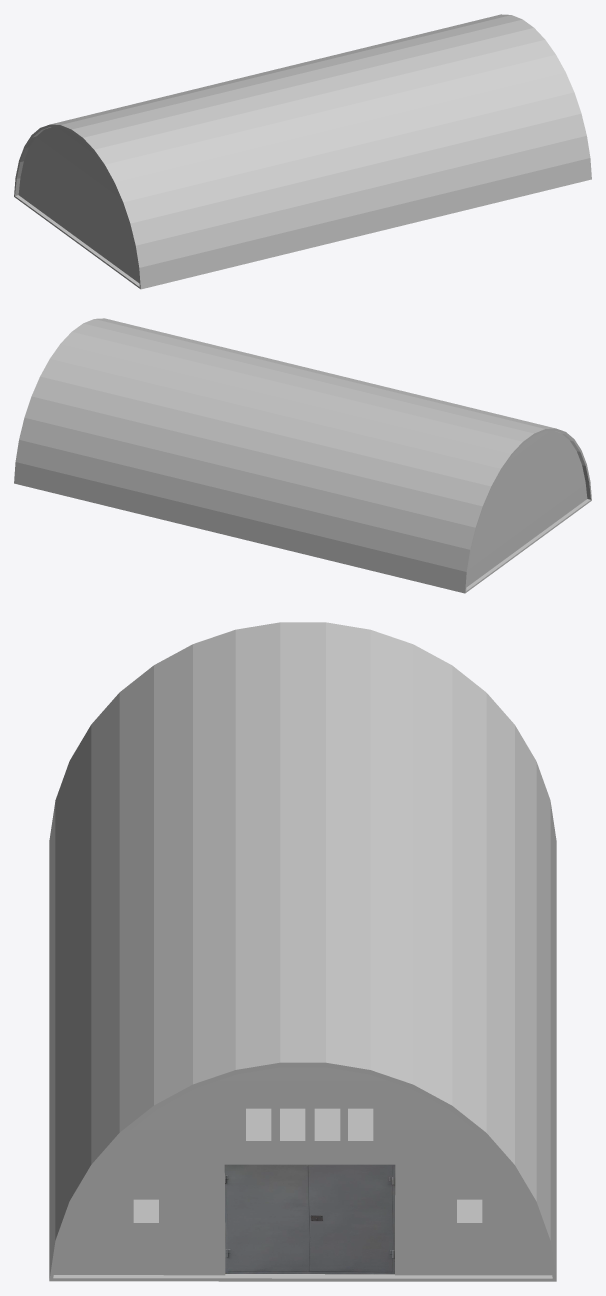
File: angar_mini .fbx
3 views of the same model, one above another, from view 1: azimuth 30°, elevation 25°; view 2: azimuth 150°, elevation 25°; view 3: azimuth 270°, elevation 25° (orthographic). The views are drawn at different scales.
Visible parts, largest first — view 1: angar_mini; view 2: angar_mini; view 3: angar_mini.
Boxes of the visible parts, left/top/right/bottom form: angar_mini: left=14, top=14, right=591, bottom=289; angar_mini: left=14, top=318, right=591, bottom=593; angar_mini: left=49, top=622, right=556, bottom=1281.
Size of the model in its own units: 410 by 95.17 by 200.
